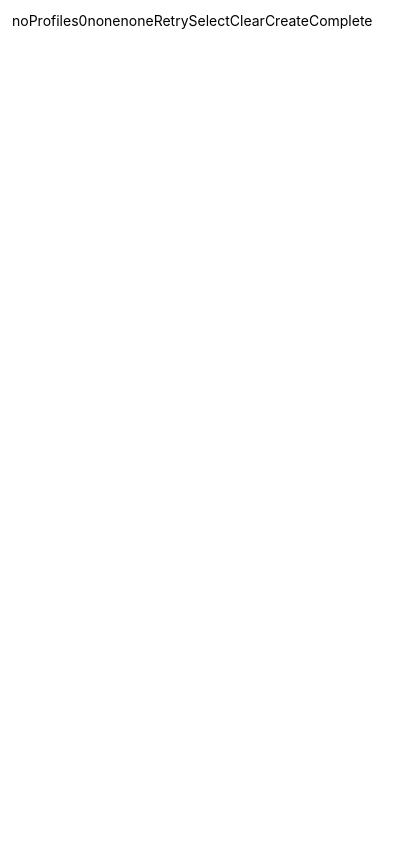
Test: ApplicationSessionProvider › ignores an older async result after a newer retry
The image size is (402, 856).
Expected: the text with test id "status" reads "noProfiles", [12,12,79,29]
Click the button "Retry": (171, 434) [154,12,188,855]
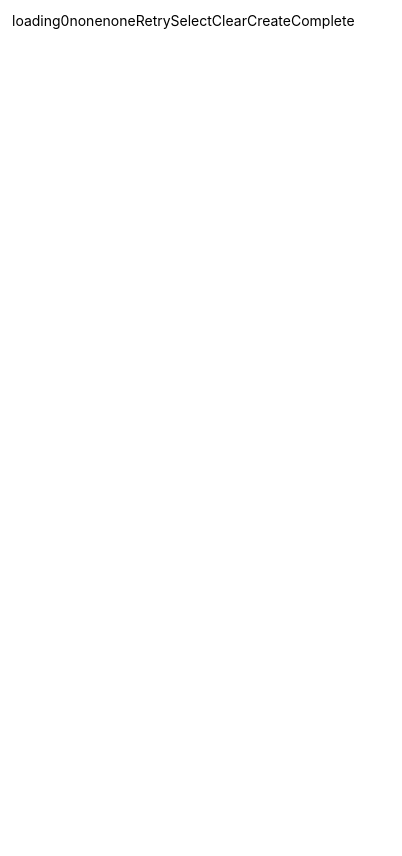
Click the button "Retry": (153, 434) [136,12,171,855]
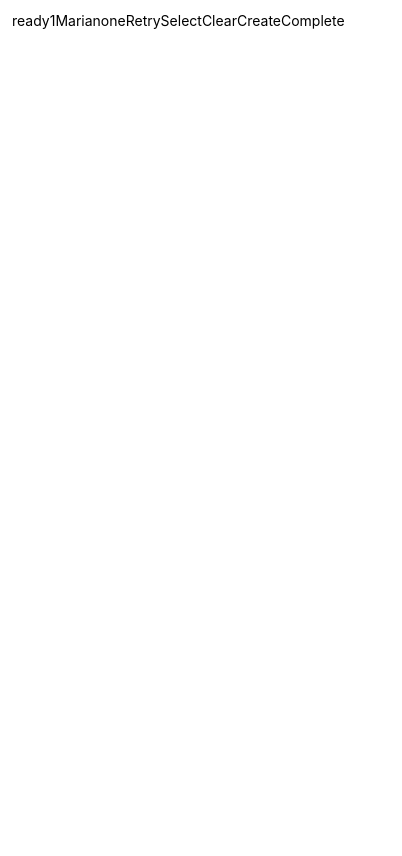
Expected: the text with test id "status" reads "ready", [12,12,50,29]
